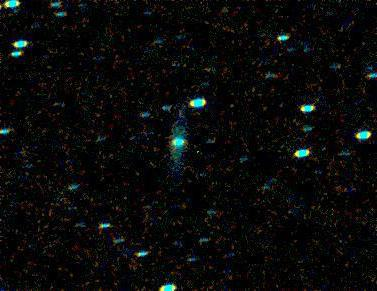star: (50, 202, 80, 232)
